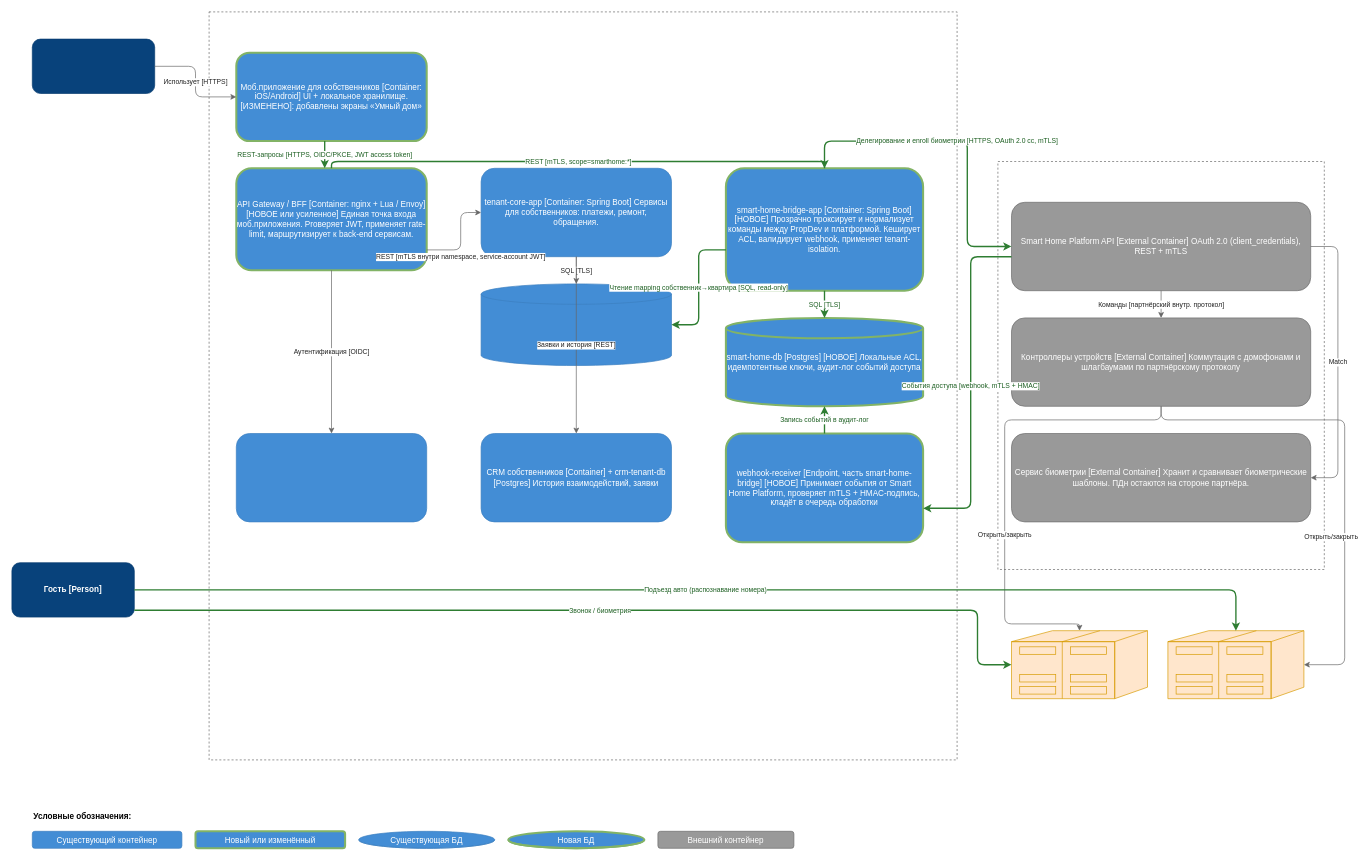
Some shapes in this 1370 by 861 pixel diagram are drawn without their labels. Here are the shapes that lost their labels. From the top down, the box of each, then its label:
(32, 38, 155, 94): Собственник [Person]
(480, 283, 672, 366): tenant-core-db [Postgres] ПДн собственников, привязка к домам и квартирам
(208, 11, 957, 760): PropDevelopment [Software System Boundary]
(997, 161, 1324, 570): Smart Home Platform [External Boundary]
(236, 433, 427, 522): Active Directory [Container] UserAccount-ы собственников и сотрудников УК
(1011, 630, 1148, 699): Видеодомофон [Hardware]
(1167, 630, 1304, 699): Шлагбаум [Hardware]
